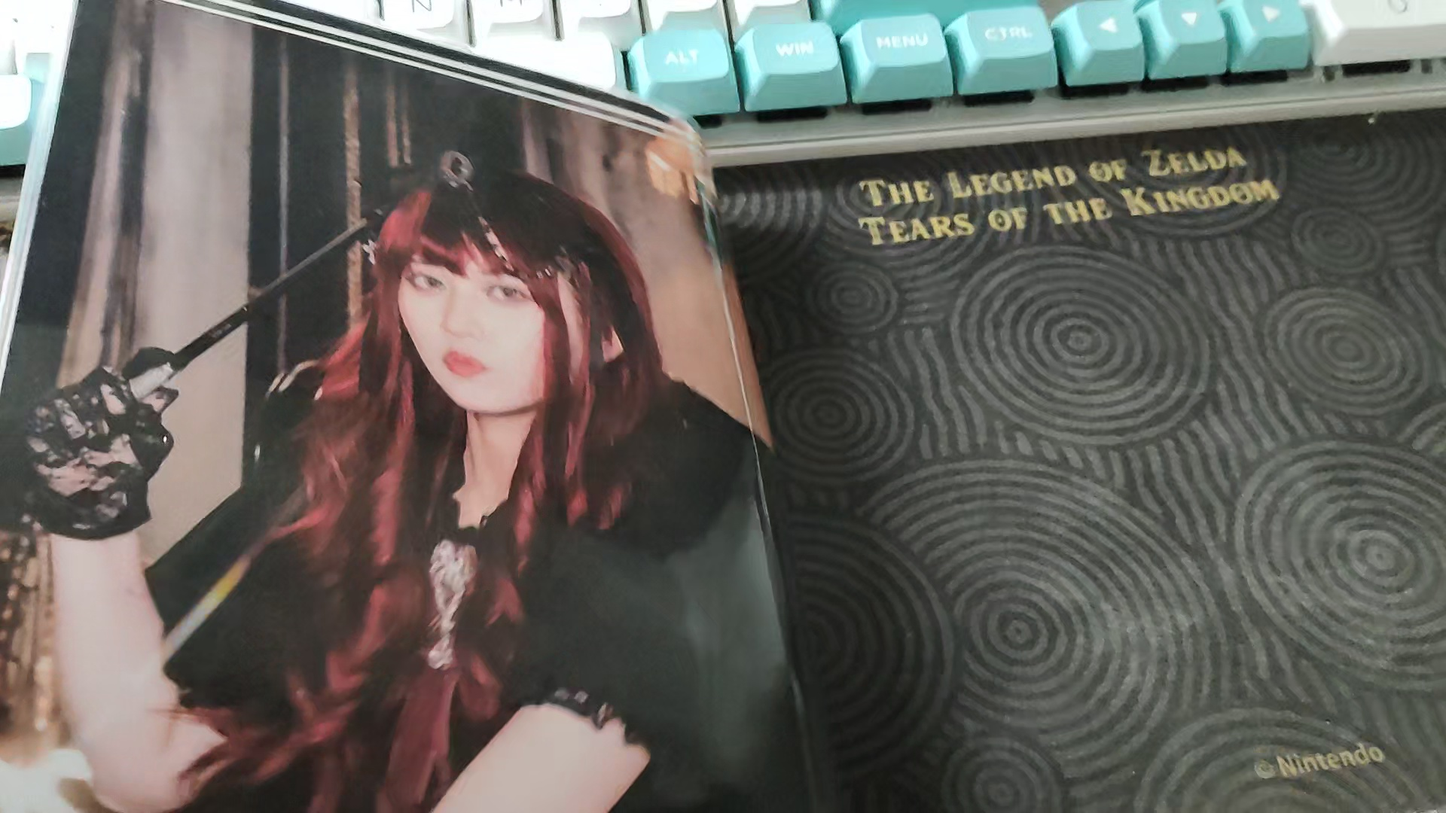Photo_book: (0, 0, 841, 813)
